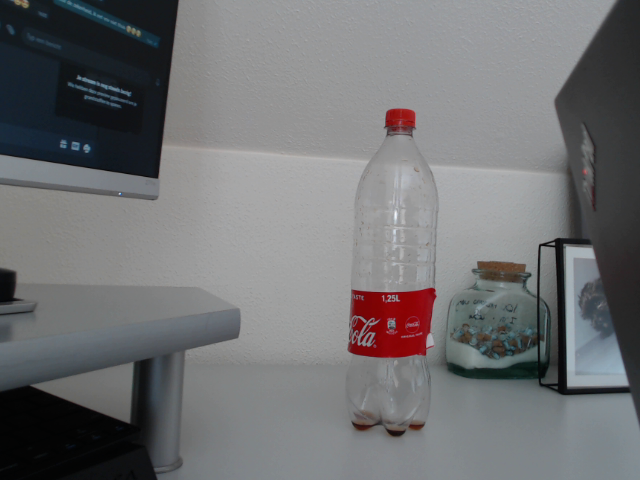bottle: (346, 108, 439, 438)
